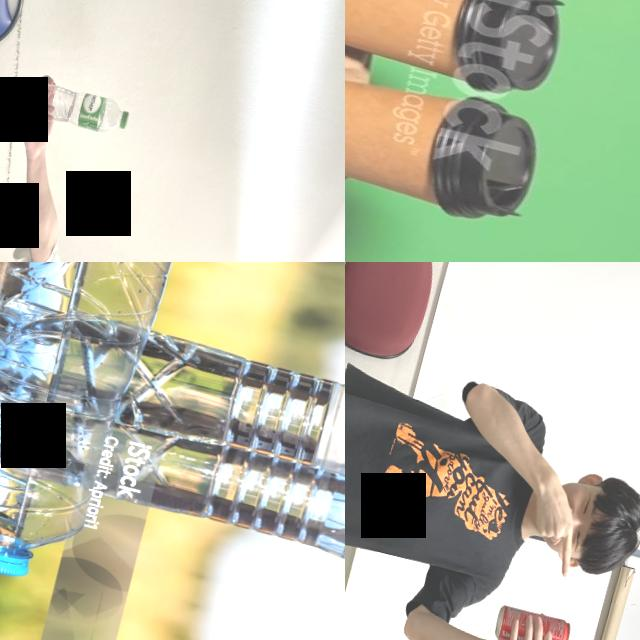bottle: (0, 281, 345, 519), (0, 262, 182, 598), (92, 415, 345, 600), (27, 78, 132, 142)
can: (490, 602, 573, 640)
cup: (345, 51, 547, 233), (345, 0, 573, 108)
